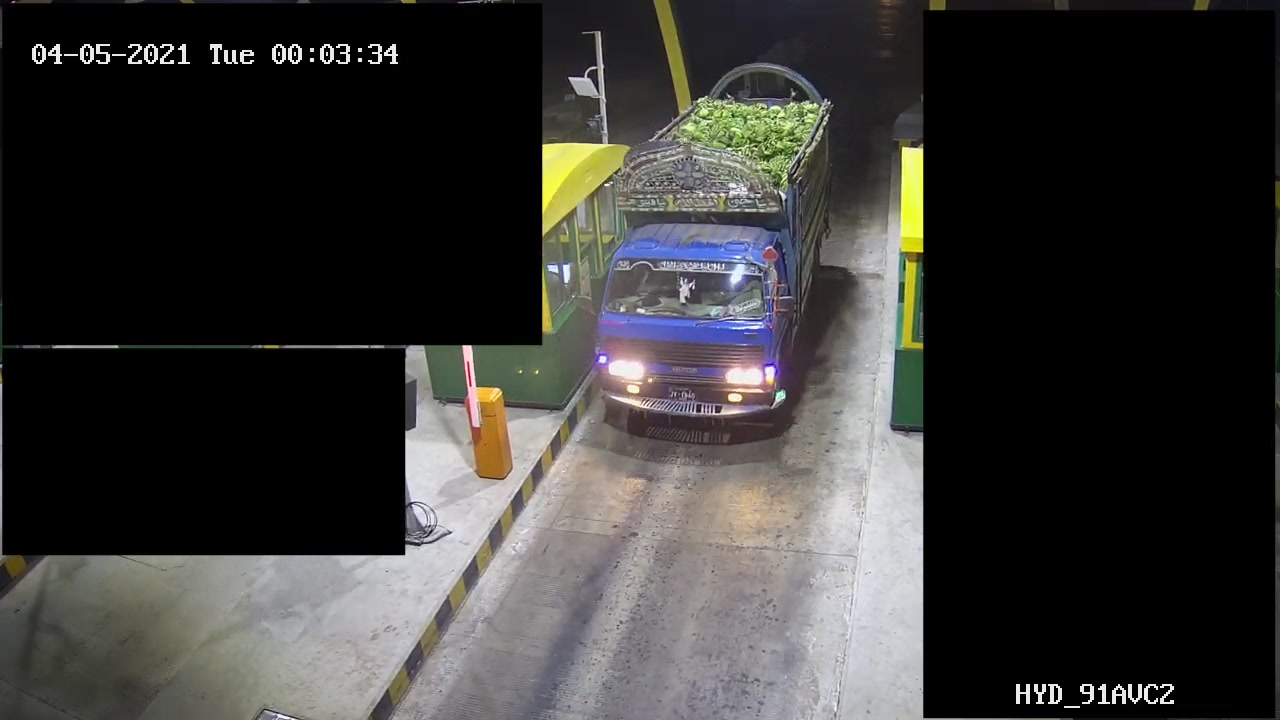F5: (586, 64, 846, 429)
